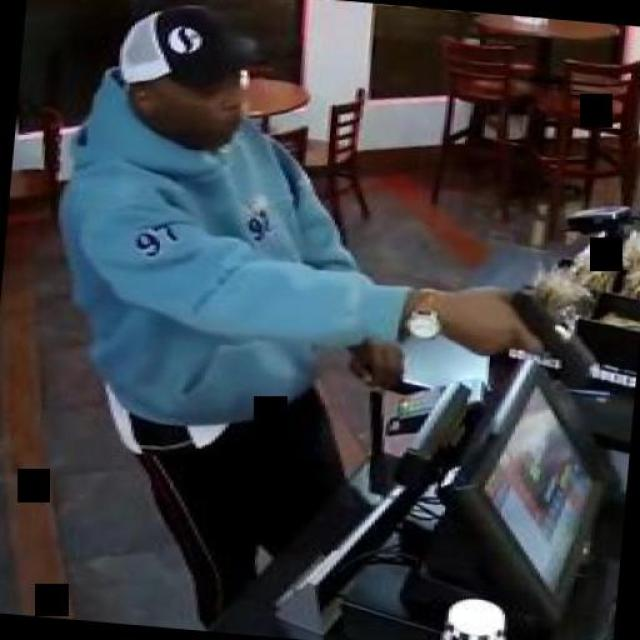gun: (480, 281, 604, 379)
